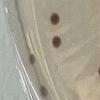brown: (51, 34, 62, 49), (38, 84, 49, 99), (50, 11, 60, 26), (28, 52, 36, 66), (96, 65, 100, 77)
